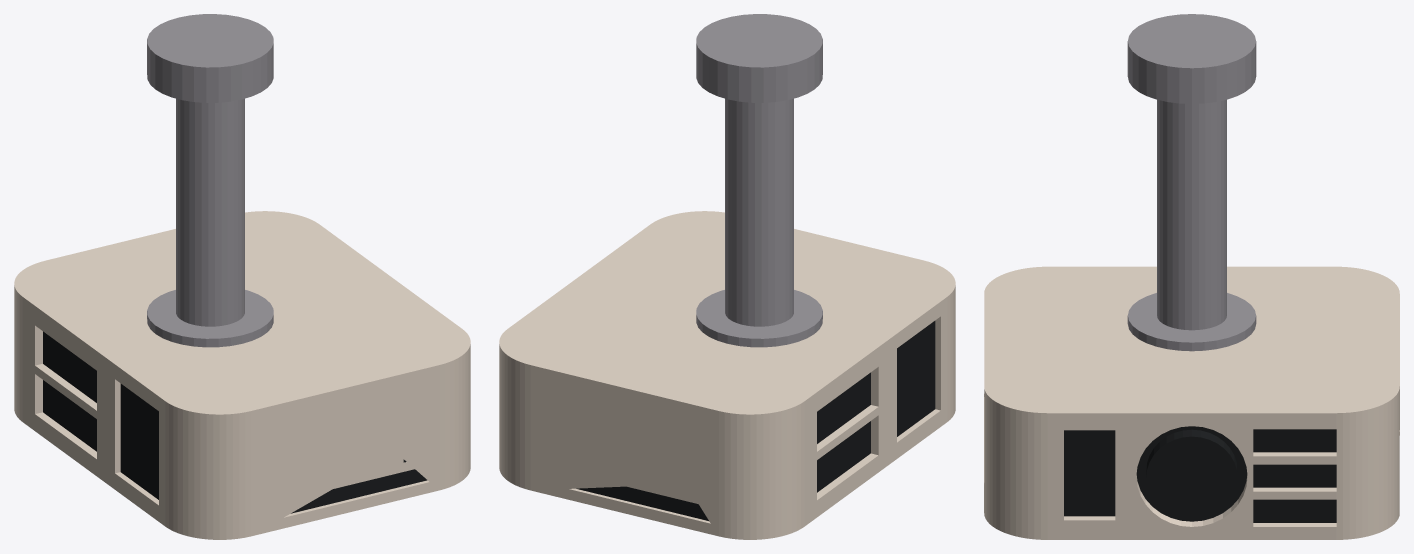
The model's file is proyector.fbx.
3 views of the same model, side by side, from view 1: azimuth 30°, elevation 25°; view 2: azimuth 150°, elevation 25°; view 3: azimuth 270°, elevation 25° (orthographic).
Parts seen in each view (by area): view 1: projector base, pole, ceiling base, ceiling base.001; view 2: projector base, pole, ceiling base, ceiling base.001; view 3: projector base, pole, ceiling base, lens, ceiling base.001.
Boxes of the visible parts, x1,y1,x2,y2 form: projector base: [14, 211, 470, 539]; pole: [176, 98, 244, 326]; ceiling base: [147, 14, 273, 102]; ceiling base.001: [147, 290, 273, 347]; projector base: [499, 211, 955, 539]; pole: [725, 98, 793, 326]; ceiling base: [696, 14, 822, 102]; ceiling base.001: [696, 290, 822, 347]; projector base: [984, 266, 1399, 539]; pole: [1157, 99, 1226, 330]; ceiling base: [1127, 14, 1256, 103]; lens: [1146, 429, 1237, 519]; ceiling base.001: [1127, 293, 1256, 351].
Bounding box in the file's own units: 169 × 218 × 200.
